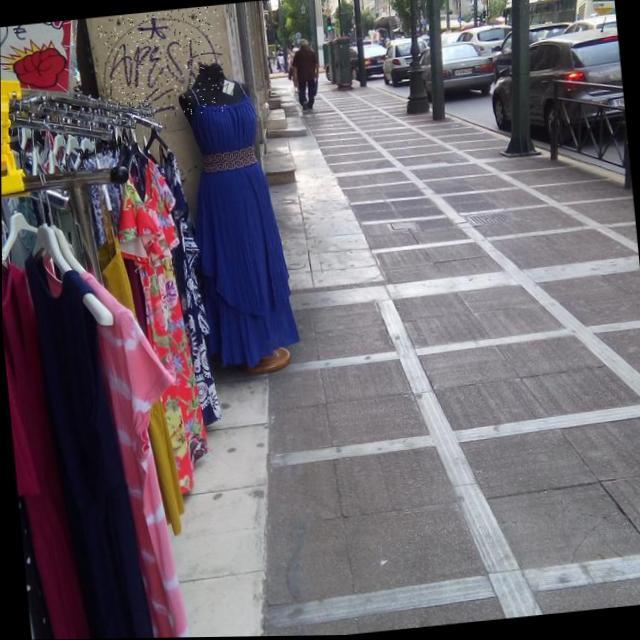-: (97, 6, 227, 123)
